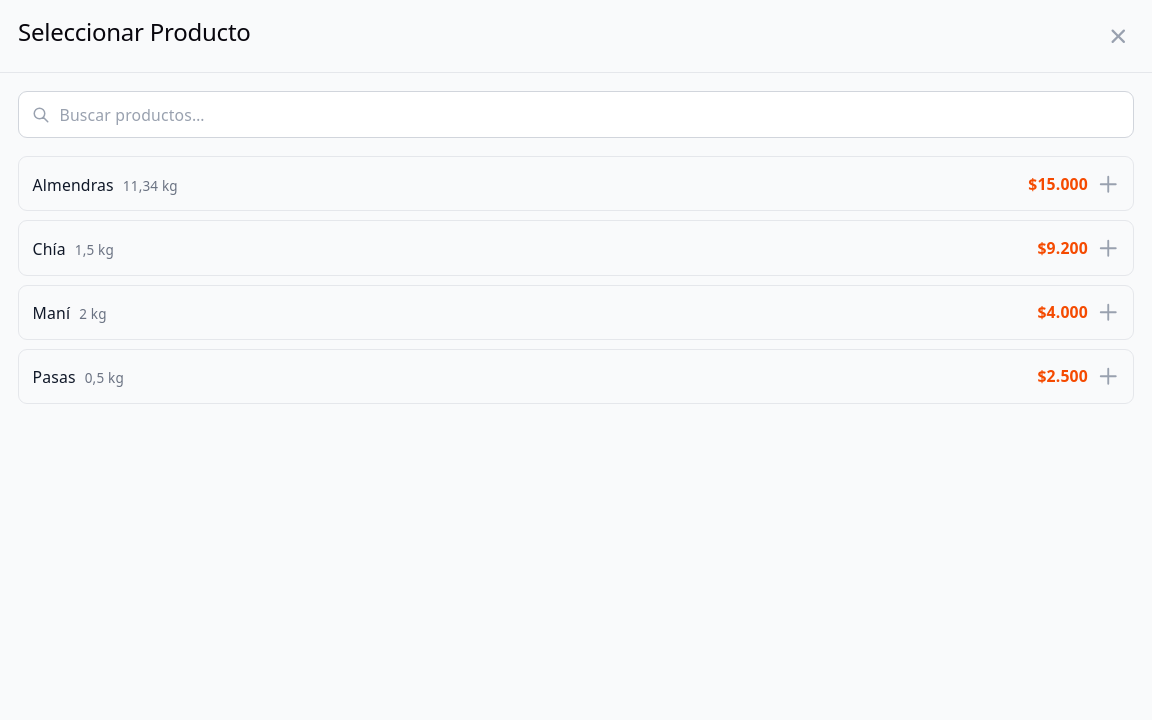
QuoteProductSelector › should clear search and show all when X is clicked
The image size is (1152, 720).
Type "al" into the field with placeholder "Buscar productos…". click: (576, 115)
box: [18,91,1134,138]
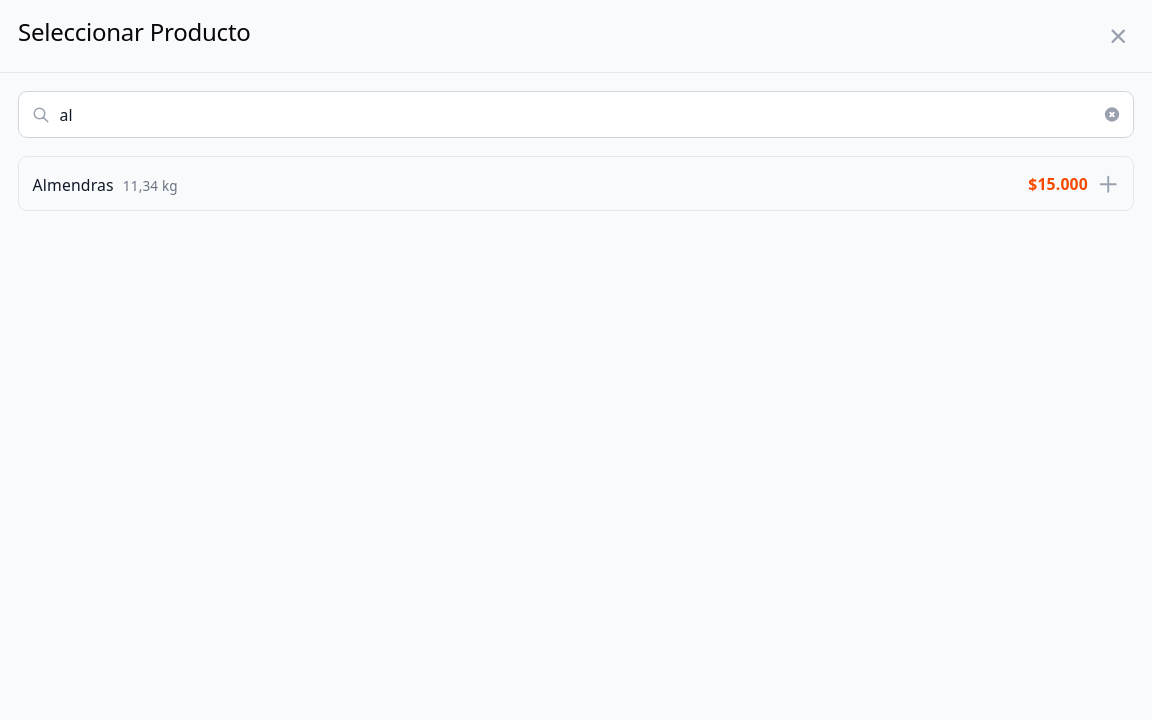
Check: the text "Almendras" is shown, box [32,174,114,196]
Click the button named "Limpiar búsqueda". click: click(1112, 115)
box: [1098,101,1125,128]
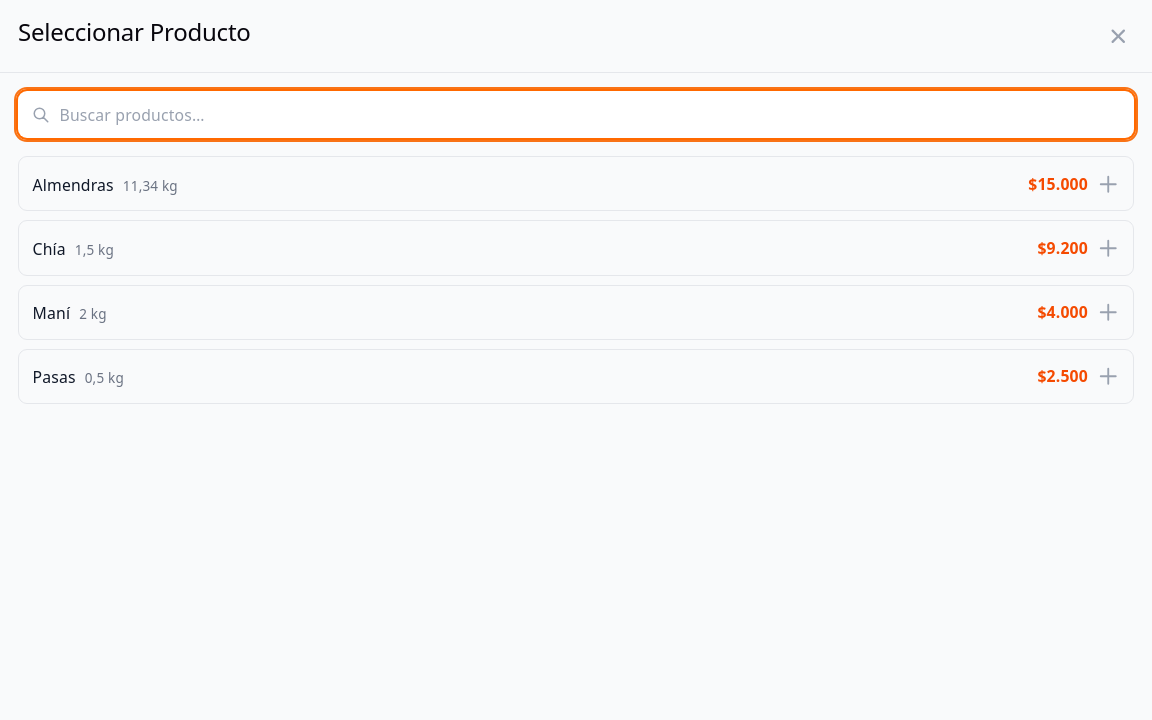
Check: the text "Almendras" is shown, box [32,174,114,196]
Check: the field with placeholder "Buscar productos…" is empty, box [18,91,1134,138]
Check: the text "Chía" is shown, box [32,238,66,260]
